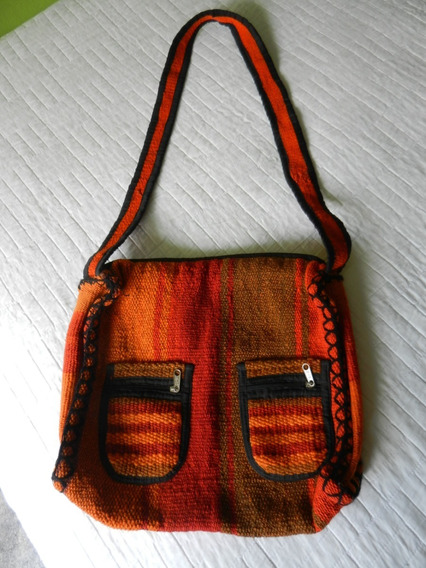cartera: (51, 9, 367, 537)
